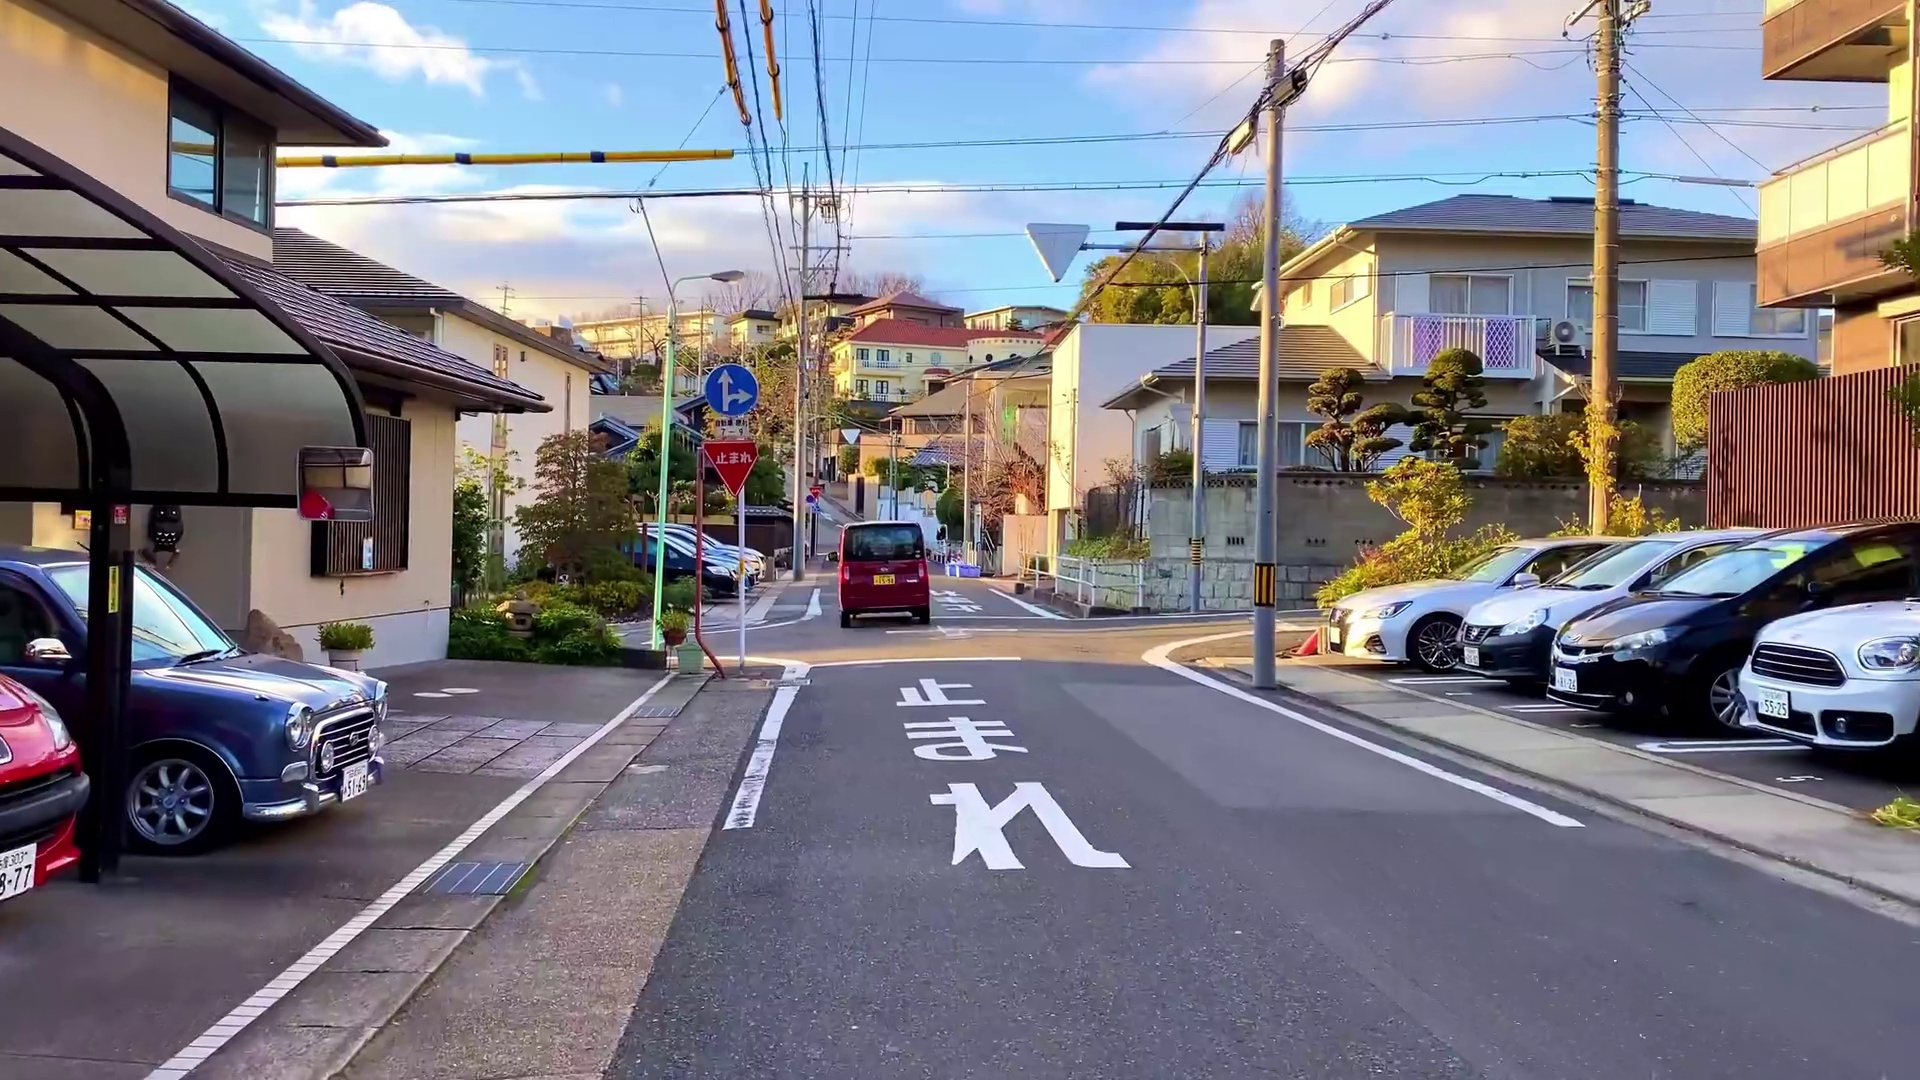car: (837, 522, 934, 632)
